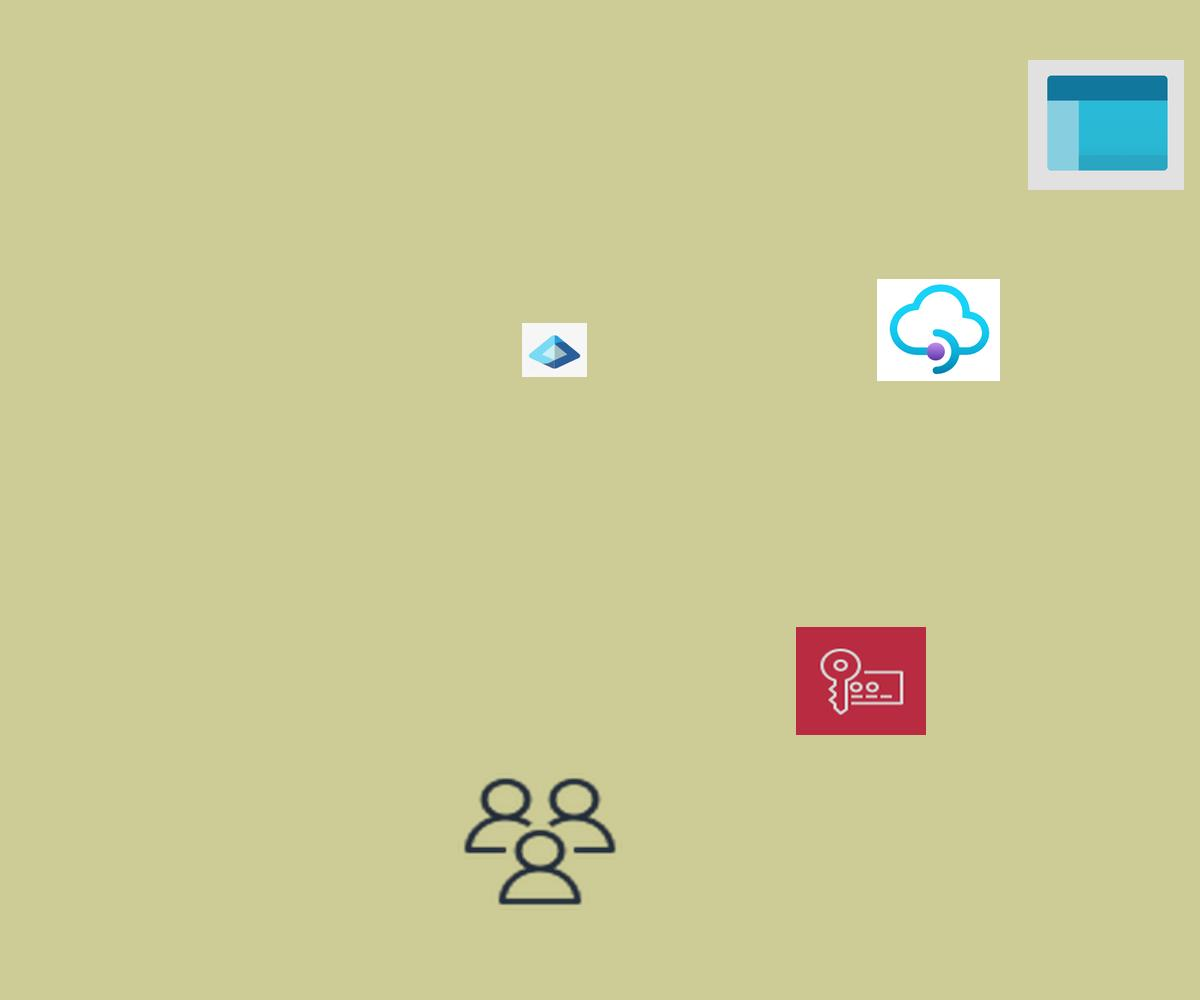AWS-Key-Management-Service: (796, 627, 926, 735)
AWS-Res_Users: (458, 773, 622, 910)
Azure_api_gateway: (877, 279, 1000, 381)
Azure_management-portal: (1028, 60, 1184, 190)
Azure_microsoft_entra: (522, 323, 587, 377)
